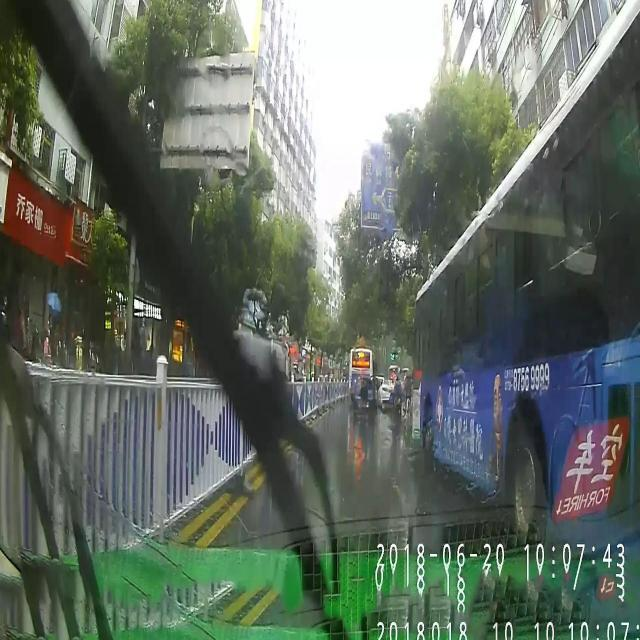car: (352, 377, 378, 419), (378, 382, 394, 404)
